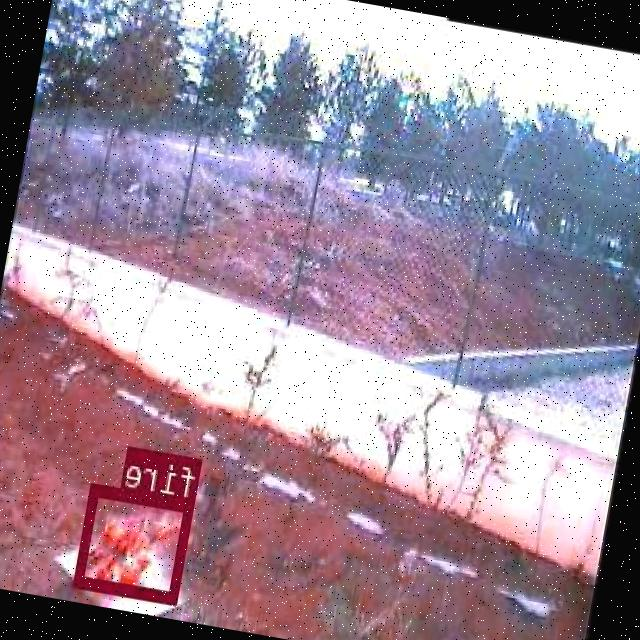fire: (75, 481, 196, 604)
